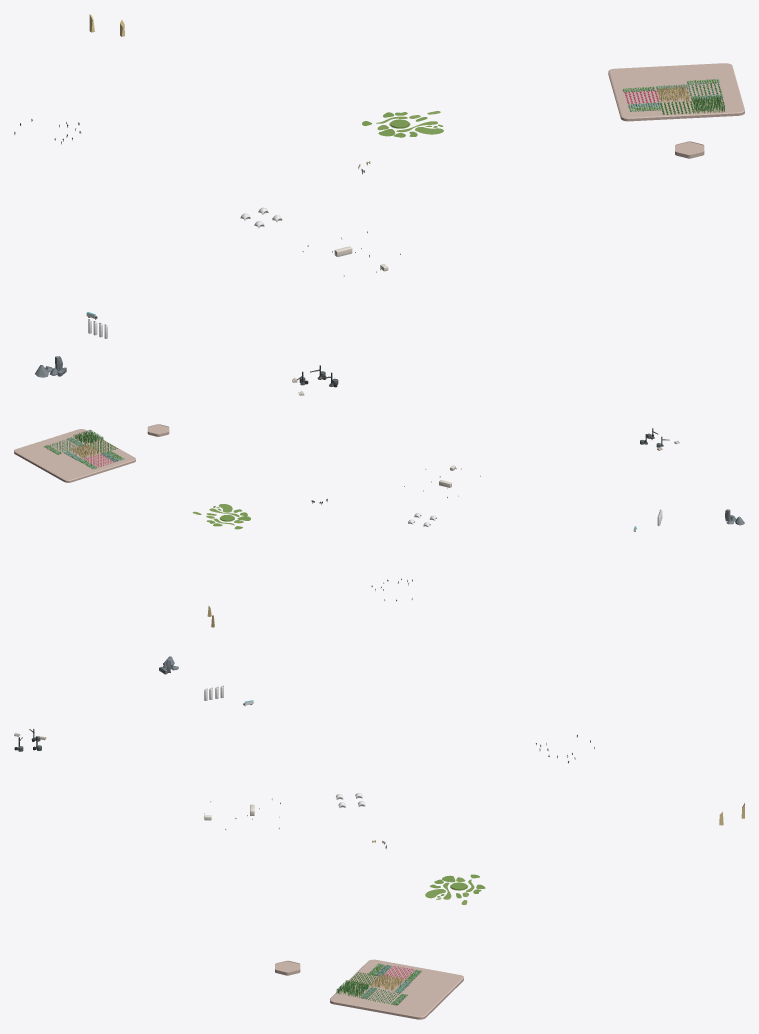
File: map_B.glb
3 renders of one model, top to bottom at view 1: azimuth 30°, elevation 25°; view 2: azimuth 150°, elevation 25°; view 3: azimuth 270°, elevation 25°, orthographic. The views are drawn at different scales.
Parts seen in each view (by area): view 1: Cube.010, central floor; view 2: Cube.010, central floor; view 3: Cube.010, central floor.
Boxes of the visible parts, bbox=[...] form: Cube.010: bbox=[608, 63, 744, 121]; central floor: bbox=[362, 111, 443, 137]; Cube.010: bbox=[14, 429, 135, 482]; central floor: bbox=[192, 504, 250, 529]; Cube.010: bbox=[330, 959, 463, 1019]; central floor: bbox=[425, 874, 485, 904].
Bounding box in the file's own units: 222 × 6.99 × 192.
1 material, 1 textured.
